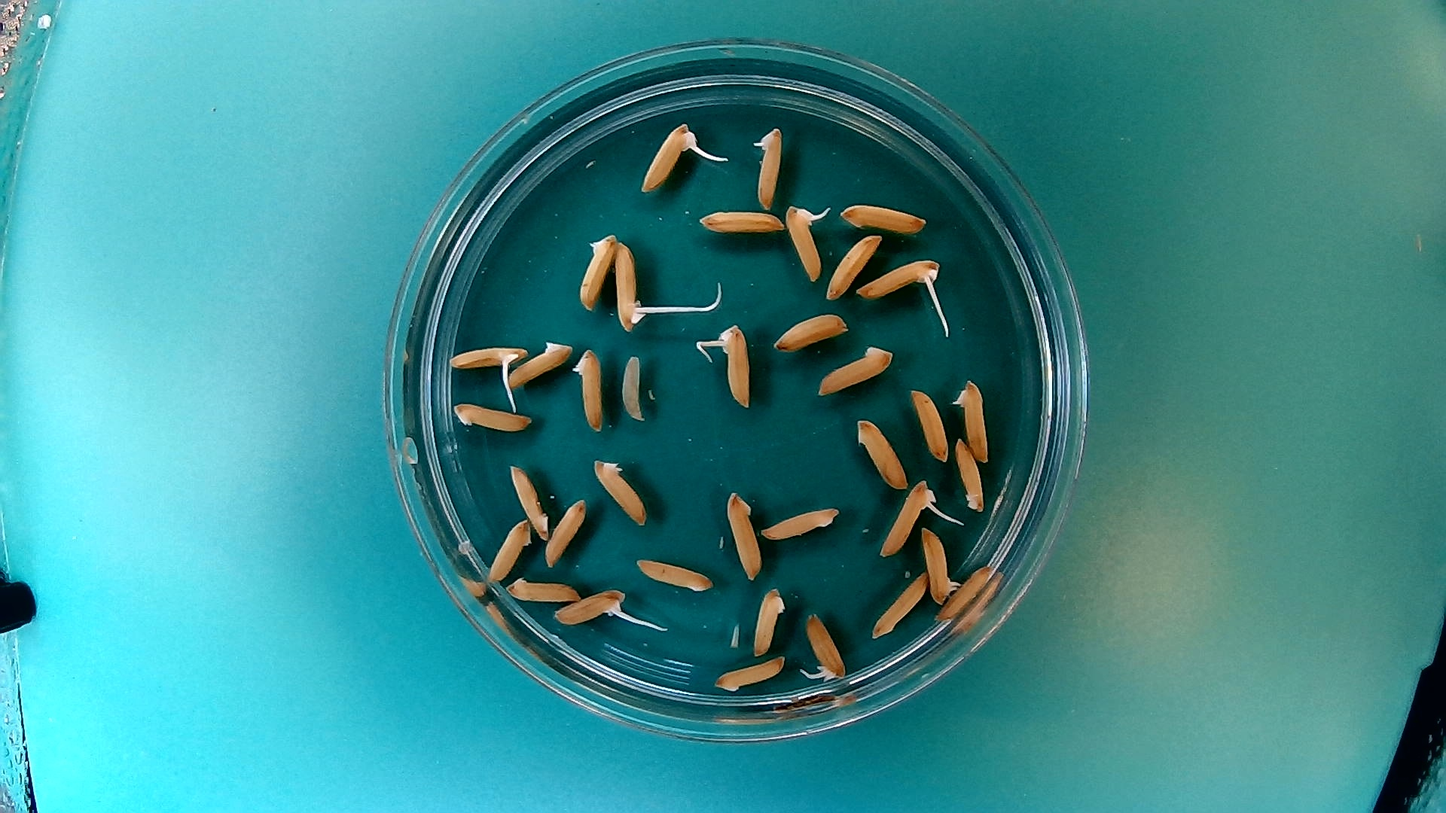no: (812, 337, 897, 397), (502, 335, 574, 397), (823, 230, 884, 302), (870, 568, 929, 641), (593, 455, 651, 529), (854, 414, 909, 492), (725, 486, 764, 584), (508, 461, 554, 543), (575, 228, 618, 312), (935, 562, 994, 623), (838, 198, 929, 237), (771, 309, 851, 353), (909, 385, 952, 463), (633, 554, 713, 595), (544, 495, 588, 568), (570, 345, 606, 434), (485, 516, 532, 584), (760, 503, 841, 542), (712, 654, 789, 695), (451, 397, 533, 435), (922, 524, 959, 604), (952, 433, 988, 514), (695, 206, 786, 236), (751, 583, 787, 658), (506, 573, 583, 604), (618, 354, 648, 428)
yes: (639, 123, 702, 196), (877, 478, 934, 555), (855, 254, 943, 303), (949, 376, 993, 464), (715, 320, 754, 414), (783, 199, 826, 283), (551, 585, 633, 629), (750, 123, 786, 212), (613, 238, 646, 332), (804, 610, 847, 680), (448, 339, 531, 372)
